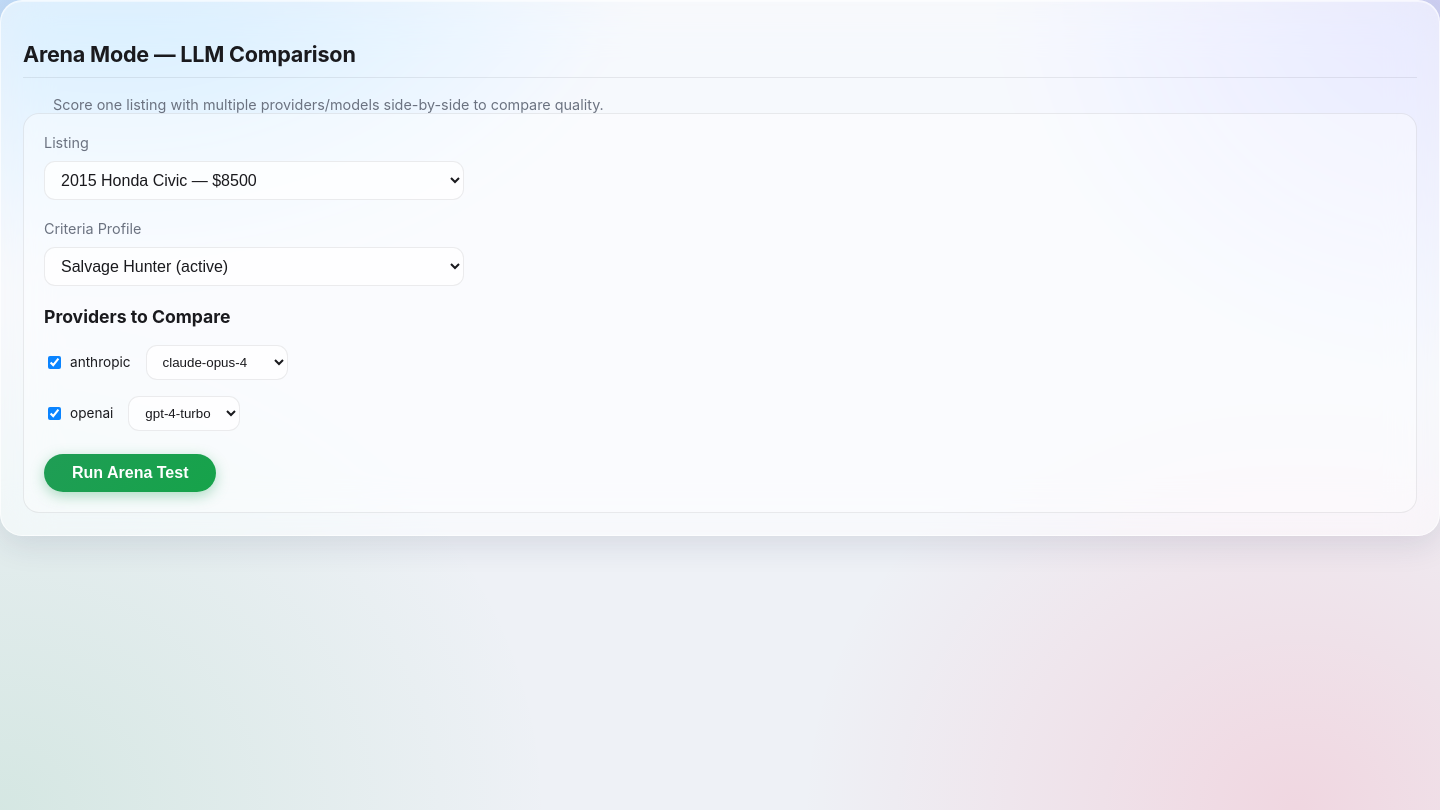
Scenario: ArenaTab › shows error when no providers are selected
Check: the text "anthropic" is shown, box x1=44 y1=353 x2=131 y2=372
Click the checkbox labelled "anthropic".
click(54, 362)  # box x1=48 y1=356 x2=61 y2=369
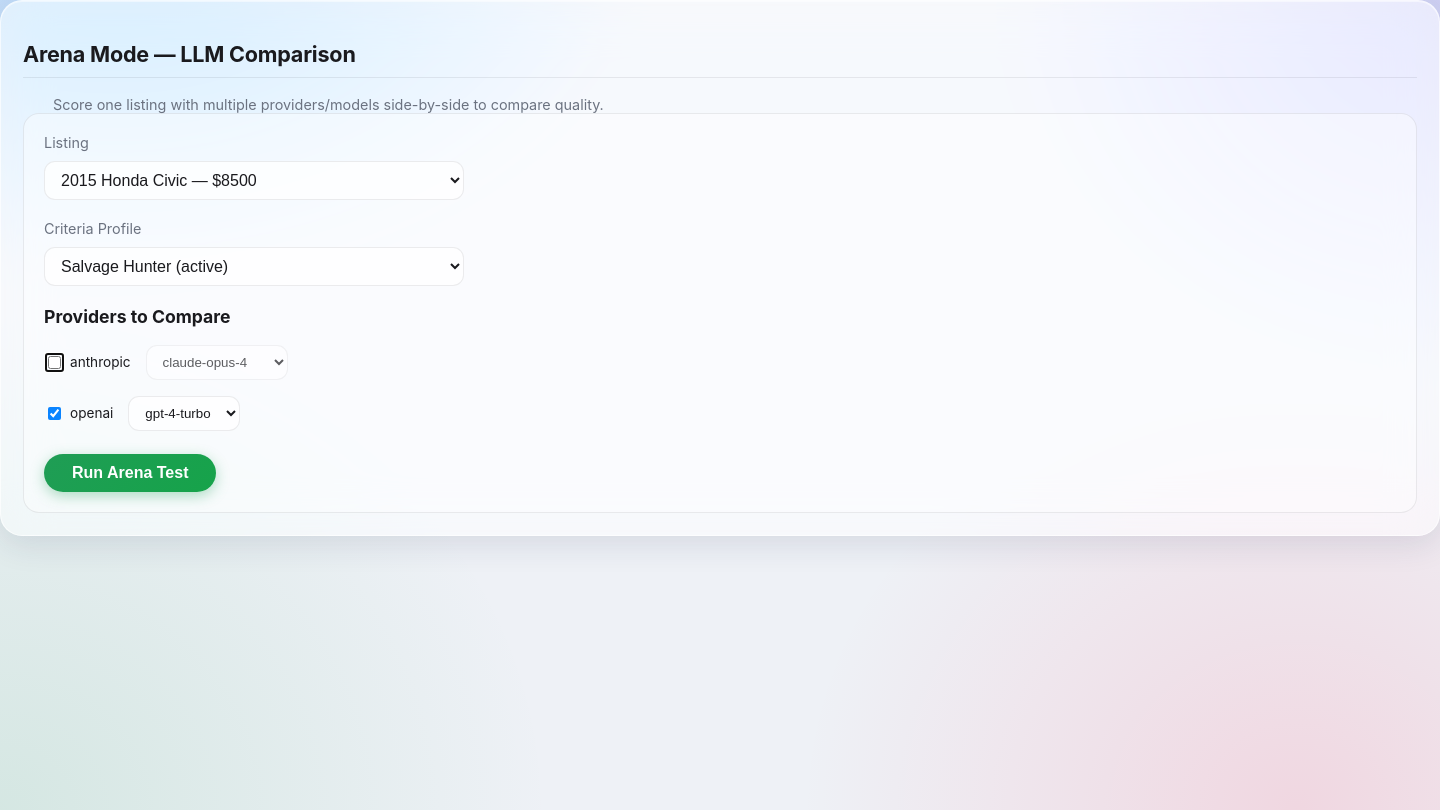
Click the checkbox labelled "openai".
click(54, 413)  # box x1=48 y1=407 x2=61 y2=420
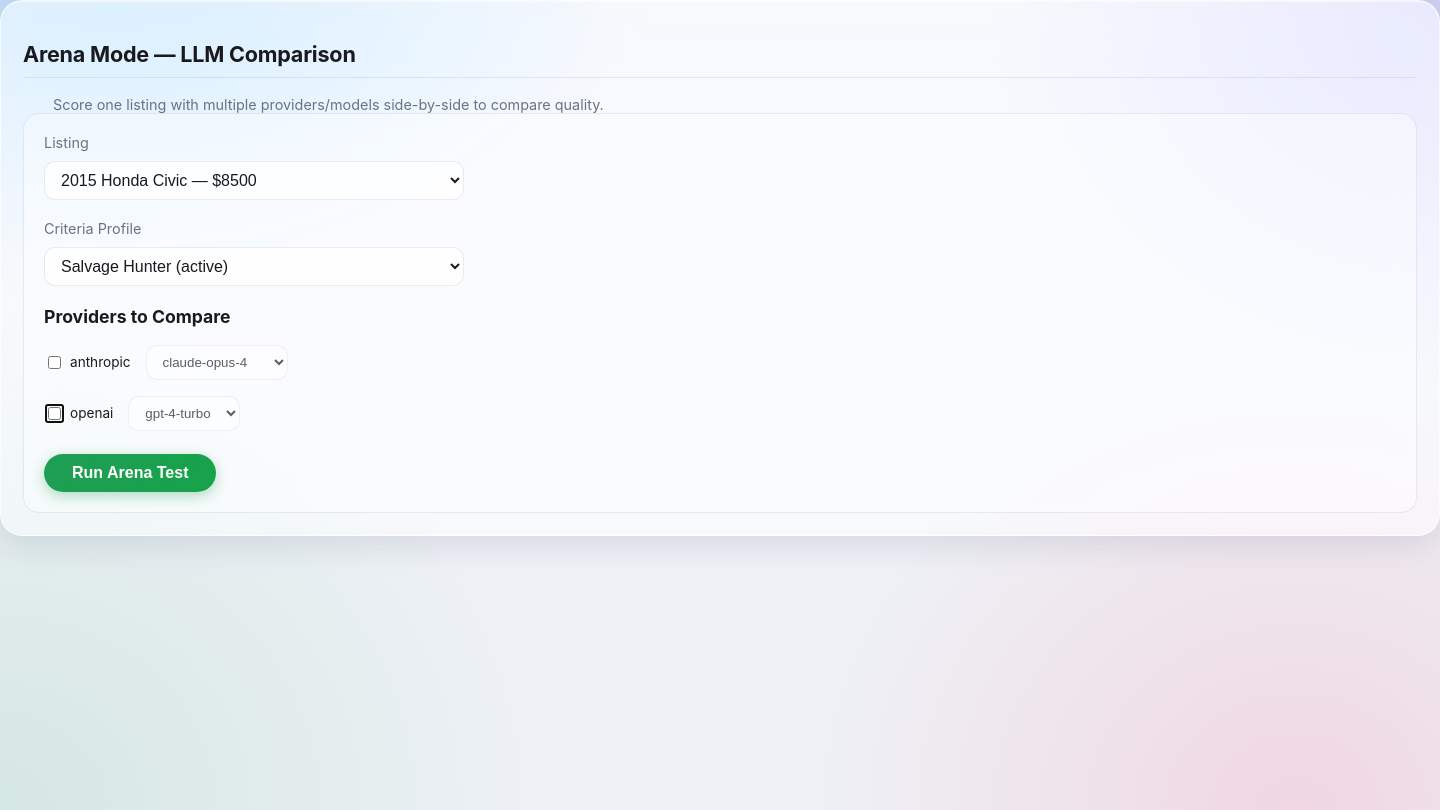
Click the button "Run Arena Test".
click(130, 473)  # box x1=44 y1=454 x2=216 y2=492
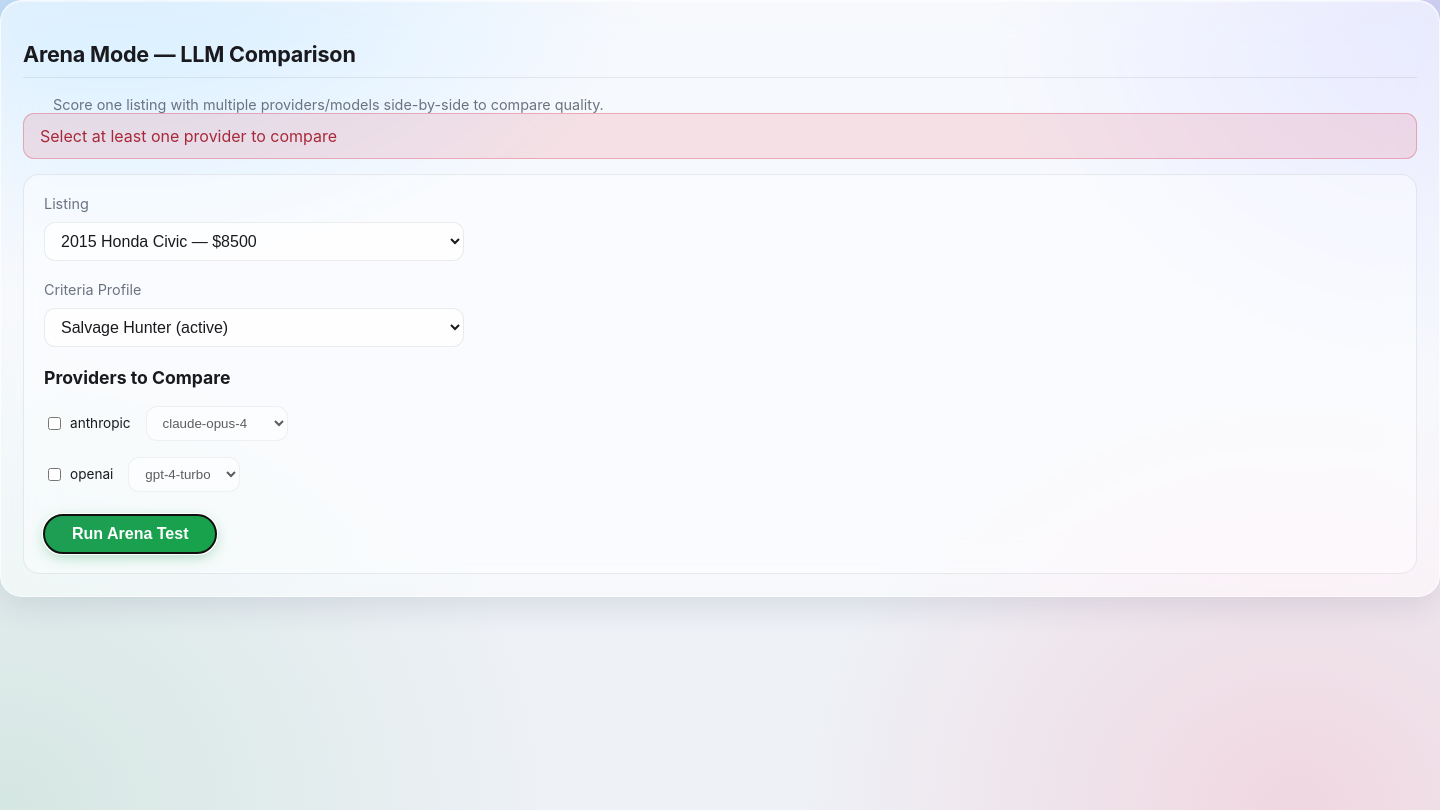
Check: the text "Select at least one provider to compare" is shown, box x1=23 y1=113 x2=1417 y2=159
